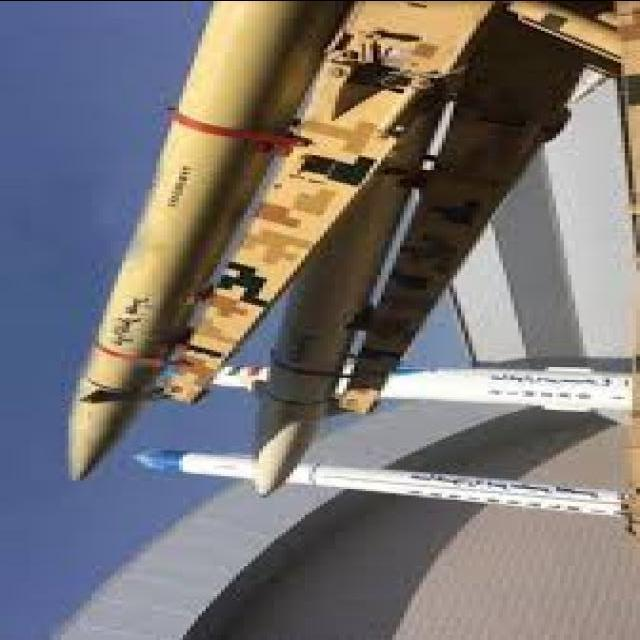missile: (120, 449, 624, 518)
